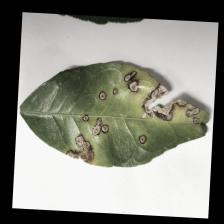canker: (49, 65, 210, 167)
